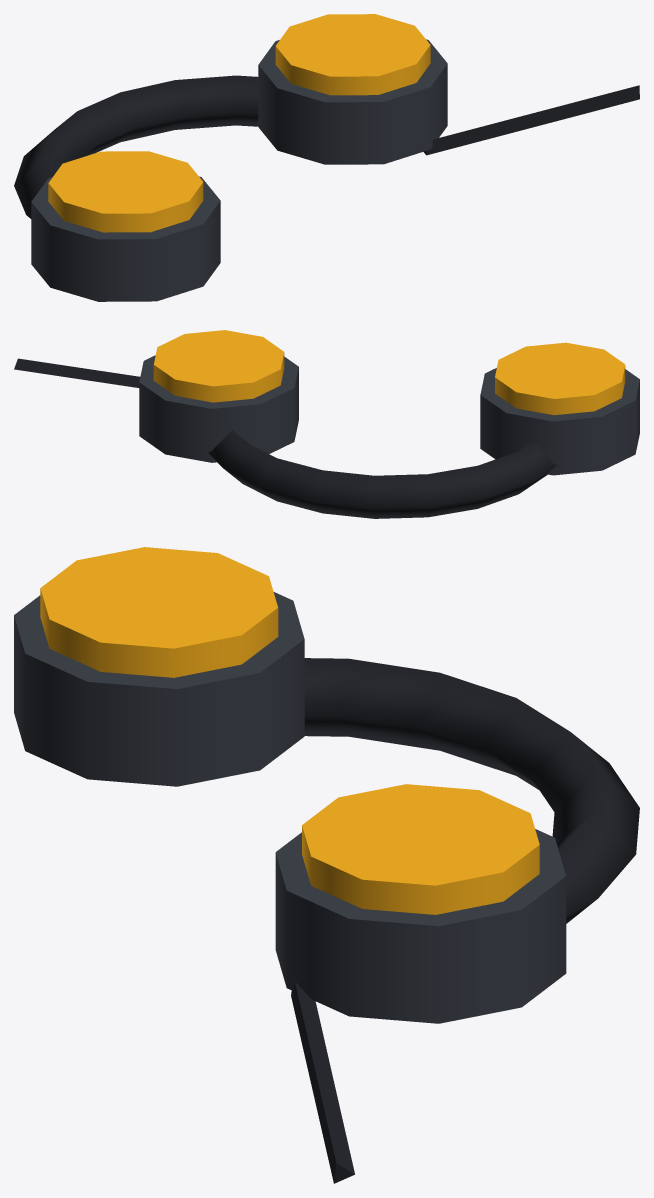
The model's file is station_buffer_ausstattung_3_0.glb.
3 renders of one model, top to bottom at view 1: azimuth 30°, elevation 25°; view 2: azimuth 150°, elevation 25°; view 3: azimuth 270°, elevation 25°, orthographic. The views are drawn at different scales.
Parts seen in each view (by area): view 1: station_buffer_ausstattung_3_0; view 2: station_buffer_ausstattung_3_0; view 3: station_buffer_ausstattung_3_0.
Part boxes in pixels (bbox=[...]): station_buffer_ausstattung_3_0: bbox=[14, 14, 639, 301]; station_buffer_ausstattung_3_0: bbox=[14, 330, 639, 518]; station_buffer_ausstattung_3_0: bbox=[14, 547, 639, 1183].
Size of the model in its own units: 0.4371 by 0.062 by 0.2326.
